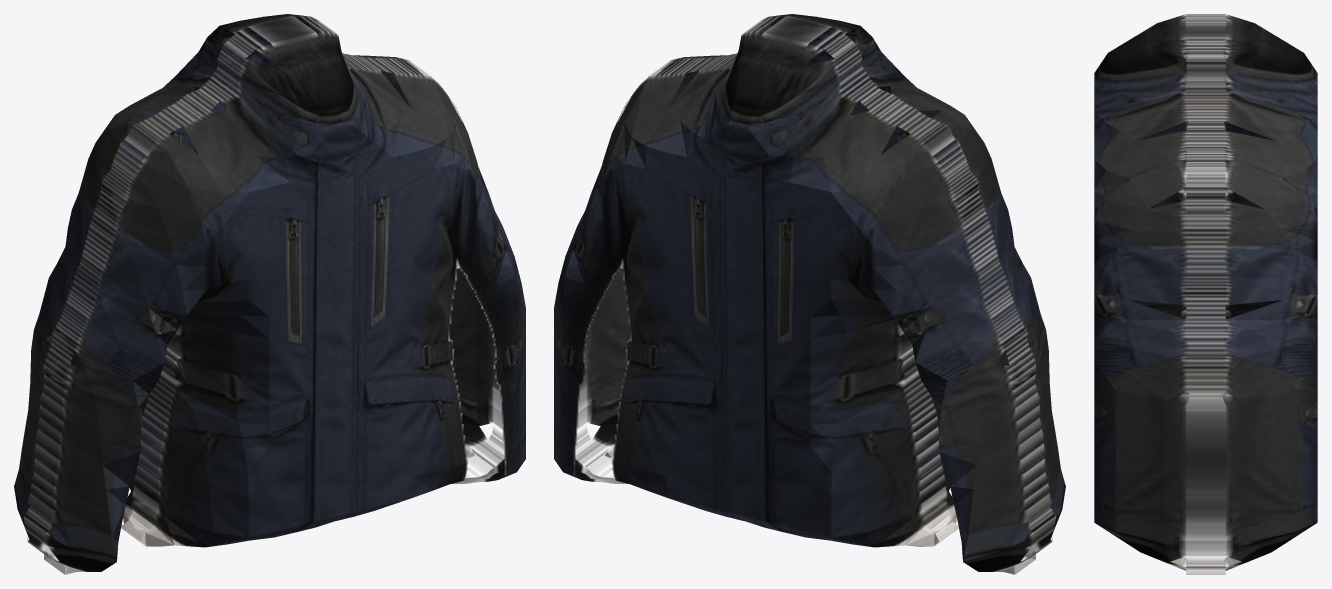
Rendered from alpinestars-nomad-adventure-jacket-027.glb.
3 views of the same model, side by side, from view 1: azimuth 30°, elevation 25°; view 2: azimuth 150°, elevation 25°; view 3: azimuth 270°, elevation 25° (orthographic). The views are drawn at different scales.
Parts seen in each view (by area): view 1: world; view 2: world; view 3: world.
Boxes of the visible parts, <box> form: world: <box>14,14,525,574</box>; world: <box>554,14,1065,574</box>; world: <box>1094,14,1317,574</box>.
Size of the model in its own units: 1 by 0.9912 by 0.44.
Materials: 1 (1 with a texture image).
